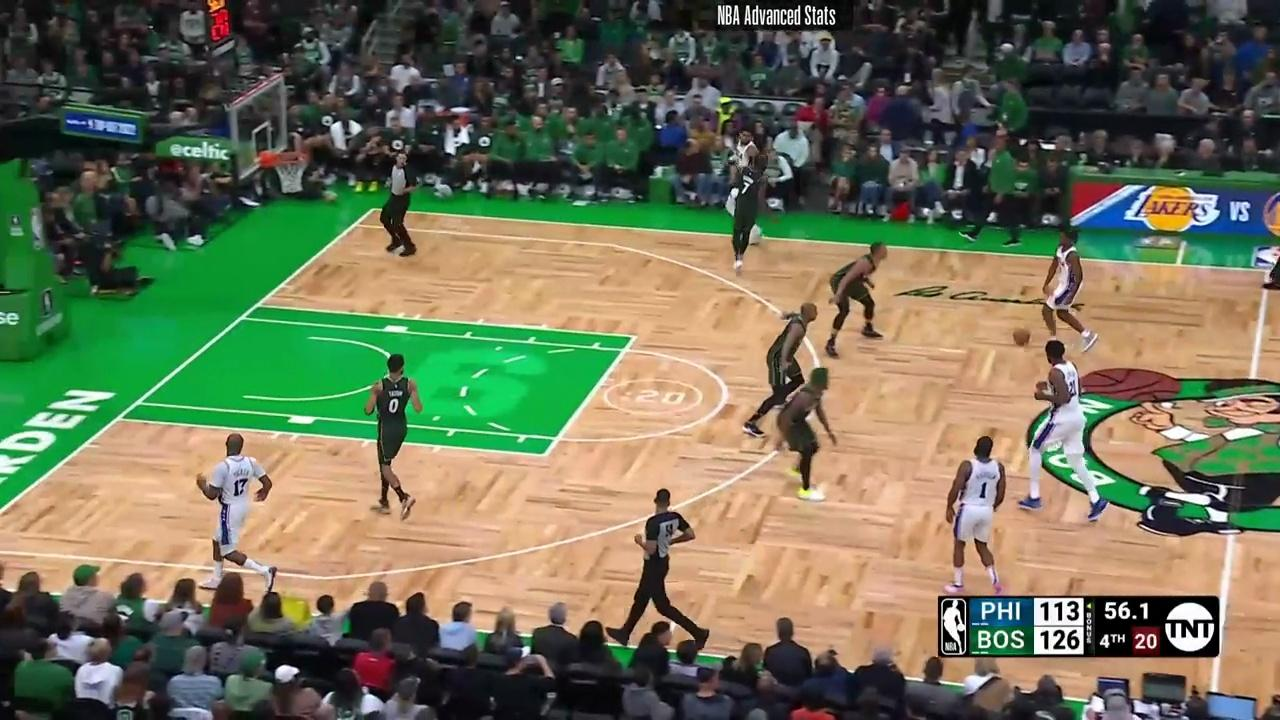Backboard: (229, 74, 288, 184)
Ball: (1012, 328, 1030, 344)
Basket: (267, 149, 312, 199)
Dribble: (1014, 341, 1029, 351)
Person: (1015, 341, 1115, 535), (186, 427, 294, 594), (358, 348, 442, 522), (938, 432, 1011, 593), (741, 302, 823, 437), (762, 360, 841, 500), (821, 234, 894, 362), (1037, 221, 1100, 357), (725, 153, 778, 269), (727, 125, 758, 180)
Referee: (602, 476, 712, 653), (378, 148, 428, 265)
Shot Clock: (190, 0, 241, 58)
